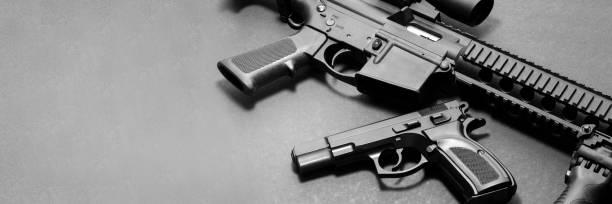weapon: (218, 0, 612, 140), (288, 99, 522, 204)
